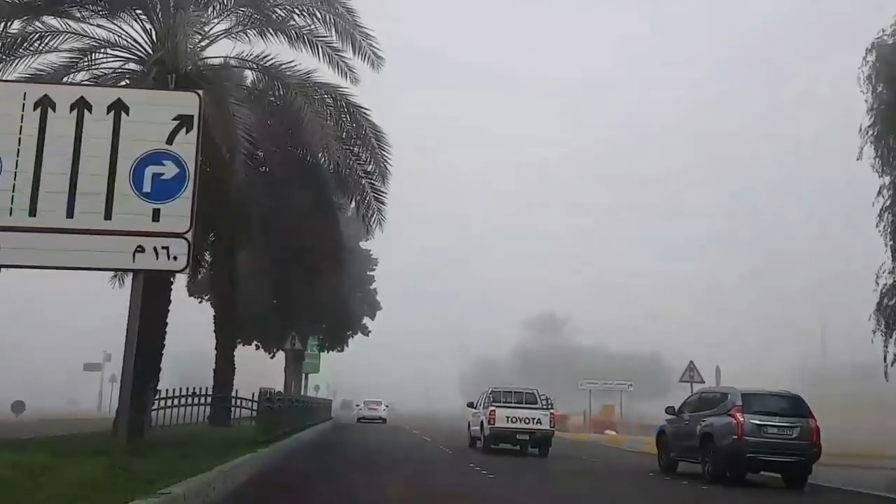car: (653, 383, 823, 495), (466, 385, 556, 458), (354, 397, 390, 425)
